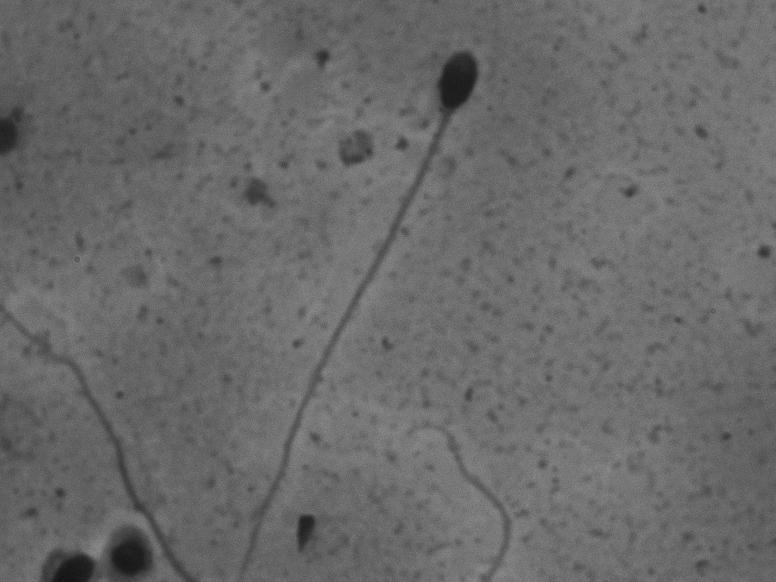Normal: (231, 38, 486, 574)
